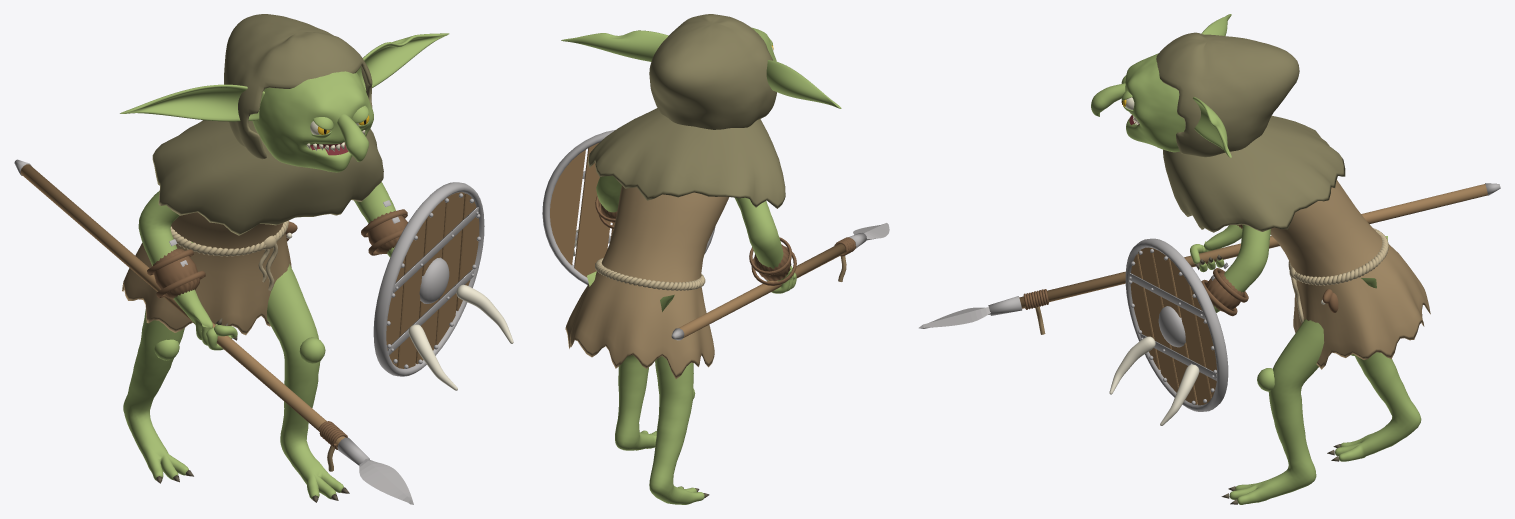
Rendered from goblin_hd.glb.
3 renders of one model, left to right at view 1: azimuth 30°, elevation 25°; view 2: azimuth 150°, elevation 25°; view 3: azimuth 270°, elevation 25°, orthographic. The views are drawn at different scales.
Parts seen in each view (by area): view 1: Cowl, Legs, Tunic, Hood.002, Head.003, Spear.001, ShieldRim.001, TorsoArms, Ear_R.002, ShieldPlank_1, ShieldPlank_3, Ear_L.002 (+13 smaller); view 2: Tunic, Cowl, Hood.002, Legs, TorsoArms, ShieldPlank_3, ShieldPlank_4, Spear.001, Ear_L.002, ShieldRim.001, Ear_R.002, BeltStrand_1 (+2 smaller); view 3: Tunic, Cowl, Hood.002, Legs, Head.003, ShieldRim.001, Spear.001, TorsoArms, ShieldPlank_3, ShieldPlank_1, ShieldPlank_2, ShieldPlank_0 (+8 smaller).
Part boxes in pixels (x1,y1,x2,y2): Cowl: (152,120,383,235); Legs: (123,241,343,499); Tunic: (122,212,291,335); Hood.002: (224,14,372,159); Head.003: (252,71,373,172); Spear.001: (20,164,345,446); ShieldRim.001: (373,182,484,376); TorsoArms: (138,182,395,350); Ear_R.002: (120,84,264,121); ShieldPlank_1: (397,219,426,368); ShieldPlank_3: (435,192,464,344); Ear_L.002: (356,33,449,90); Tunic: (565,185,729,378); Cowl: (588,108,785,208); Hood.002: (649,14,776,129); Legs: (587,271,704,504); TorsoArms: (596,175,796,293); ShieldPlank_3: (574,143,610,277); ShieldPlank_4: (550,150,585,265); Spear.001: (678,240,855,337); Ear_L.002: (561,30,668,61); ShieldRim.001: (542,130,715,285); Ear_R.002: (766,60,841,108); BeltStrand_1: (595,258,705,290); Tunic: (1270,180,1430,369); Cowl: (1163,115,1345,232); Hood.002: (1156,32,1299,157); Legs: (1229,236,1421,504); Head.003: (1125,53,1185,152); ShieldRim.001: (1125,238,1228,411); Spear.001: (1019,184,1487,308); TorsoArms: (1190,224,1270,312); ShieldPlank_3: (1170,260,1211,405); ShieldPlank_1: (1138,247,1178,392); ShieldPlank_2: (1152,248,1197,404); ShieldPlank_0: (1130,254,1160,369).
Bounding box in the file's own units: 0.928 × 1.22 × 1.47.
